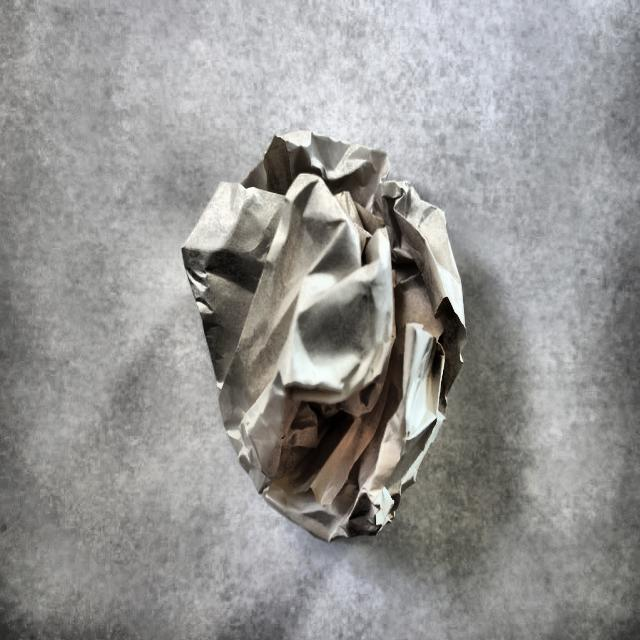Paper: (181, 120, 488, 568)
